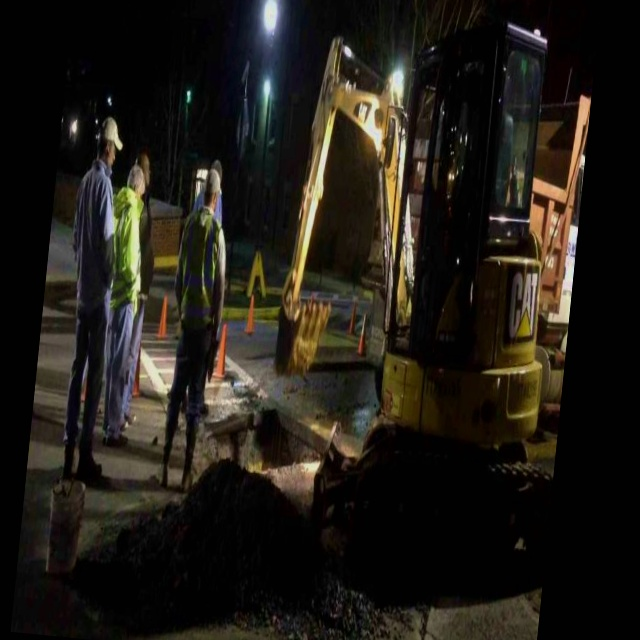Con_Chaleco: (171, 207, 227, 338)
Sin_Casco_Mascarrilla: (97, 116, 126, 174), (126, 162, 148, 207)
